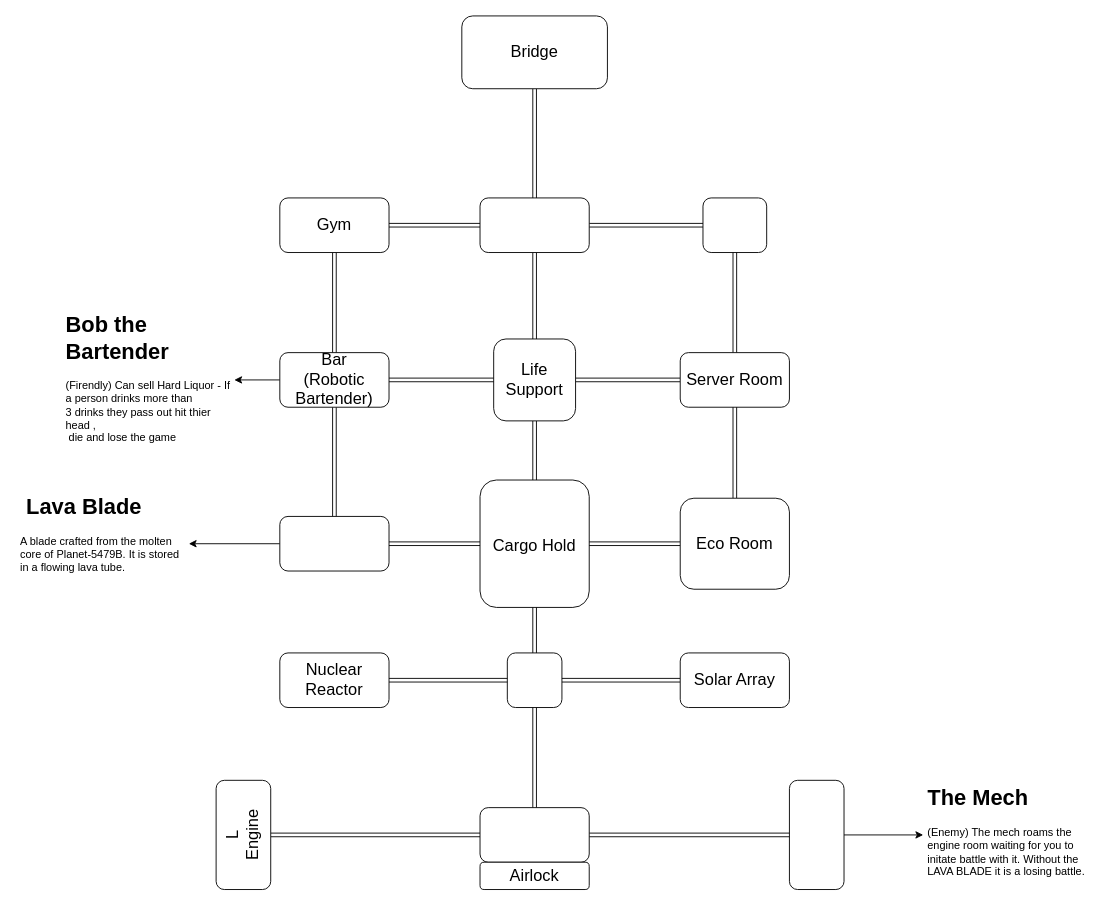
The diagram is 1111 pixels wide and 905 high, and some of its shapes have lost their labels. Each missing label, with the centre of its shape:
Armoury: the point at 334,543
Crew Quaters (Start Location): the point at 534,225
Defense Systems: the point at 734,225
Maintencince Storage: the point at 534,834
Power: the point at 534,680
R Engine: the point at 816,834
